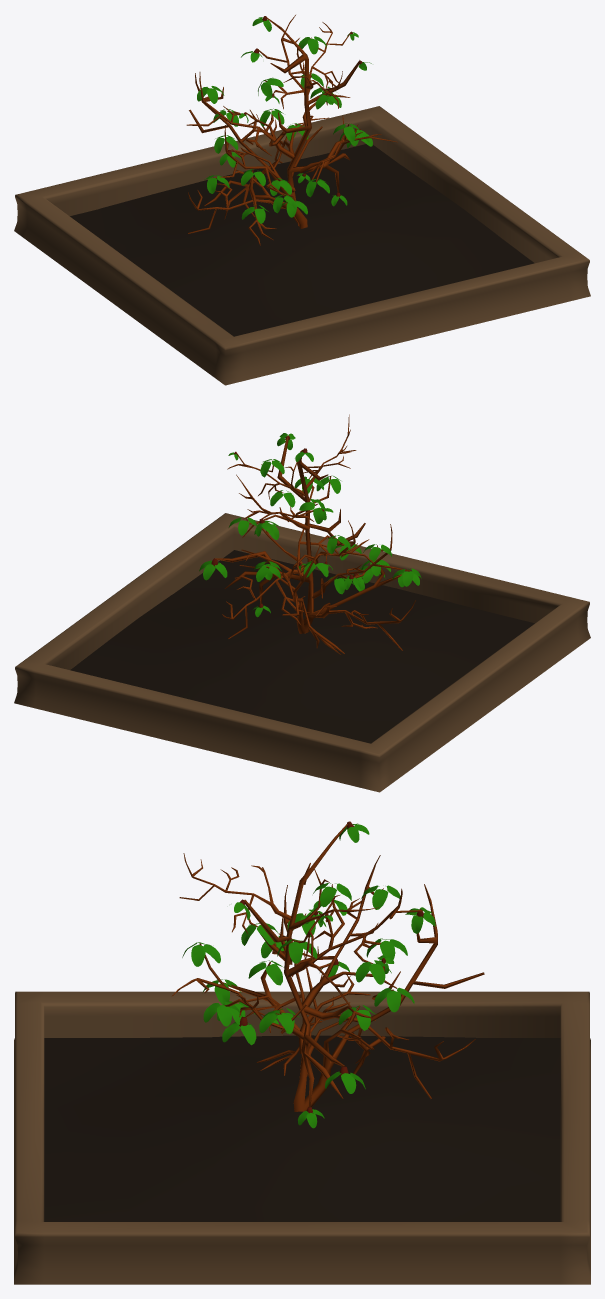
Rendered from PlantBox_KrystBerry_Seedling.glb.
The picture shows the model from 3 angles, top to bottom: view 1: azimuth 30°, elevation 25°; view 2: azimuth 150°, elevation 25°; view 3: azimuth 270°, elevation 25°; orthographic projection. The views are drawn at different scales.
Visible parts, largest first — view 1: PlantBox_KrystBerry_Seedling; view 2: PlantBox_KrystBerry_Seedling; view 3: PlantBox_KrystBerry_Seedling.
Part boxes in pixels (box(x1,y1,x2,y2)): PlantBox_KrystBerry_Seedling: box(14, 15, 590, 385); PlantBox_KrystBerry_Seedling: box(14, 414, 590, 792); PlantBox_KrystBerry_Seedling: box(14, 821, 590, 1284).
Size of the model in its own units: 78.76 by 49.3 by 78.76.
